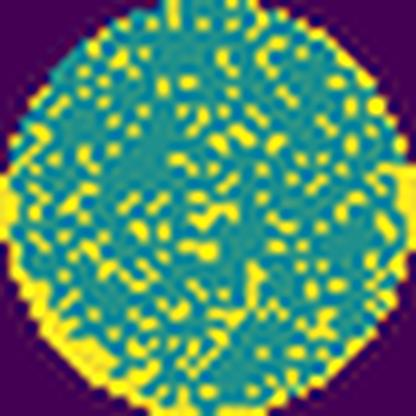Edge-Loc: (0, 160, 274, 416), (377, 130, 415, 262)
